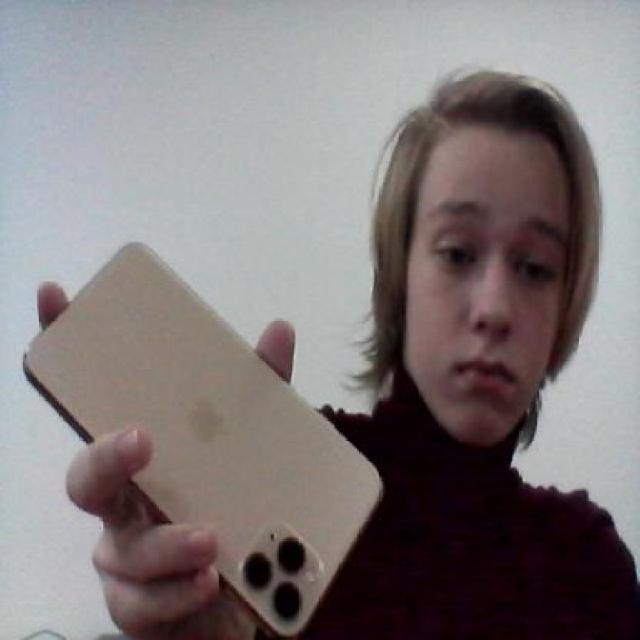mobile: (29, 232, 403, 640)
